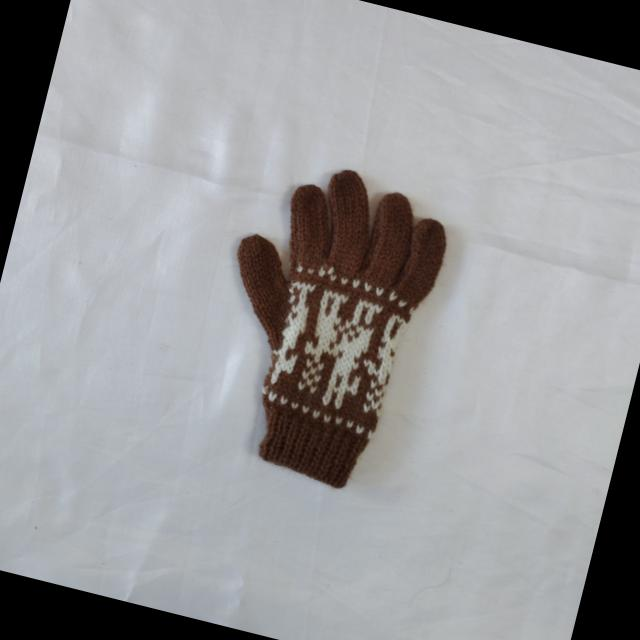Guante: (186, 148, 460, 502)
